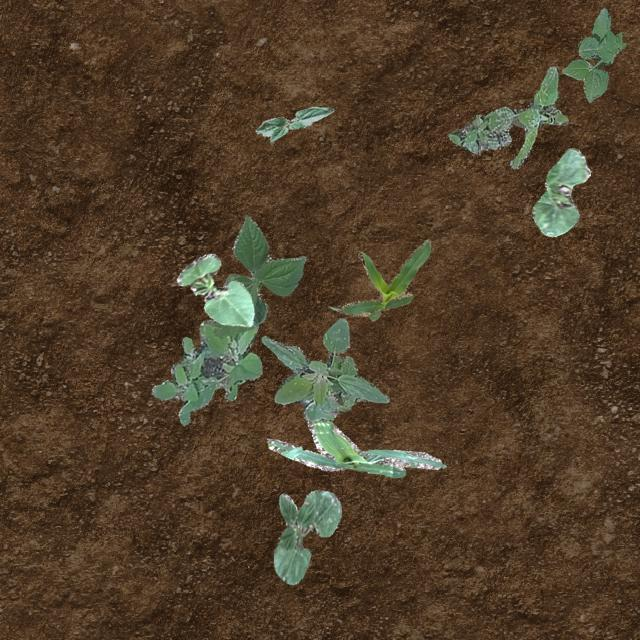crop: (261, 316, 388, 421), (212, 215, 304, 336), (266, 418, 444, 476), (328, 238, 429, 320), (272, 488, 340, 584), (176, 252, 253, 326), (530, 147, 590, 236), (255, 106, 332, 140)
weed: (448, 65, 568, 168), (150, 318, 260, 424), (560, 8, 626, 102)
